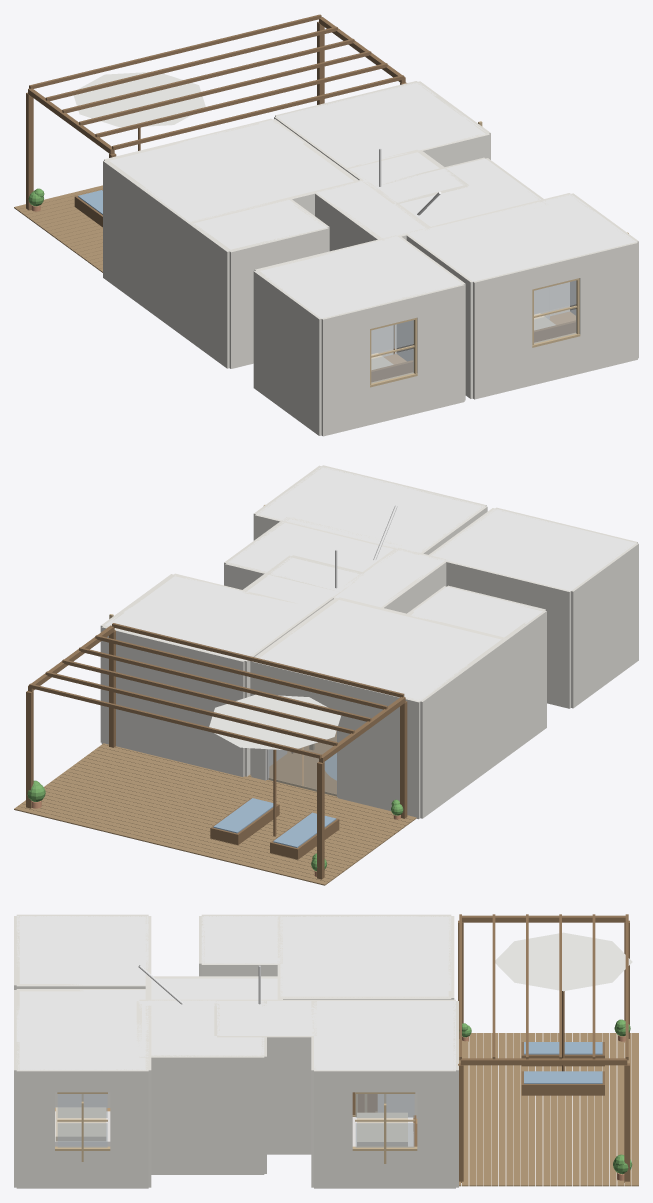
Rendered from house_v3.glb.
The picture shows the model from 3 angles, top to bottom: view 1: azimuth 30°, elevation 25°; view 2: azimuth 150°, elevation 25°; view 3: azimuth 270°, elevation 25°; orthographic projection.
Parts seen in each view (by area): view 1: Ceiling_living, Ceiling_bedroom3, Wall_living_left, Ceiling_master_bedroom, Ceiling_bedroom2, Wall_bedroom2_left, Wall_bedroom3_front_L, Wall_bedroom3_front_R, Wall_bedroom2_front_L, Wall_bedroom2_front_R, Ceiling_stairs, Wall_bathroom2_left (+28 smaller); view 2: Ceiling_living, Wall_master_bedroom_back, Wall_living_left, Ceiling_bedroom3, Ceiling_bedroom2, Ceiling_master_bedroom, Wall_bedroom2_left, Wall_living_back_L, Ceiling_stairs, Wall_bathroom2_left, UmbrellaCanopy, Ceiling_bathroom2 (+54 smaller); view 3: Ceiling_living, Wall_stairs_right, Ceiling_bedroom3, Ceiling_master_bedroom, Ceiling_bedroom2, UmbrellaCanopy, Wall_master_bath_right, Ceiling_stairs, Wall_bedroom3_right_R, Wall_bedroom3_right_L, Wall_master_bedroom_right_L, Wall_master_bedroom_right_R (+62 smaller).
Boxes of the visible parts, x1,y1,x2,y2 form: Ceiling_living: [109, 120, 353, 222]; Ceiling_bedroom3: [408, 194, 636, 281]; Wall_living_left: [103, 160, 189, 339]; Ceiling_master_bedroom: [277, 82, 487, 167]; Ceiling_bedroom2: [258, 236, 462, 318]; Wall_bedroom2_left: [253, 271, 321, 435]; Wall_bedroom3_front_L: [473, 267, 532, 399]; Wall_bedroom3_front_R: [579, 242, 637, 373]; Wall_bedroom2_front_L: [321, 307, 369, 436]; Wall_bedroom2_front_R: [415, 283, 464, 413]; Ceiling_stairs: [389, 158, 544, 227]; Wall_bathroom2_left: [188, 222, 231, 368]; Ceiling_living: [257, 600, 501, 701]; Wall_master_bedroom_back: [101, 625, 245, 776]; Wall_living_left: [420, 639, 507, 818]; Ceiling_bedroom3: [257, 466, 484, 553]; Ceiling_bedroom2: [431, 508, 635, 590]; Ceiling_master_bedroom: [104, 575, 314, 660]; Wall_bedroom2_left: [571, 543, 638, 708]; Wall_living_back_L: [337, 682, 420, 819]; Ceiling_stairs: [228, 522, 393, 584]; Wall_bathroom2_left: [504, 610, 546, 755]; UmbrellaCanopy: [209, 694, 341, 749]; Ceiling_bathroom2: [410, 586, 542, 637]; Ceiling_living: [280, 916, 451, 997]; Wall_stairs_right: [139, 1055, 264, 1174]; Ceiling_bedroom3: [16, 990, 148, 1070]; Ceiling_master_bedroom: [314, 1001, 455, 1070]; Ceiling_bedroom2: [16, 916, 148, 985]; UmbrellaCanopy: [495, 932, 632, 991]; Wall_master_bath_right: [217, 1036, 313, 1154]; Ceiling_stairs: [139, 1001, 264, 1056]; Wall_bedroom3_right_R: [110, 1069, 148, 1188]; Wall_bedroom3_right_L: [16, 1069, 54, 1188]; Wall_master_bedroom_right_L: [314, 1070, 352, 1188]; Wall_master_bedroom_right_R: [417, 1070, 455, 1188].
Bounding box in the file's own units: 8.67 × 3.72 × 13.51.
